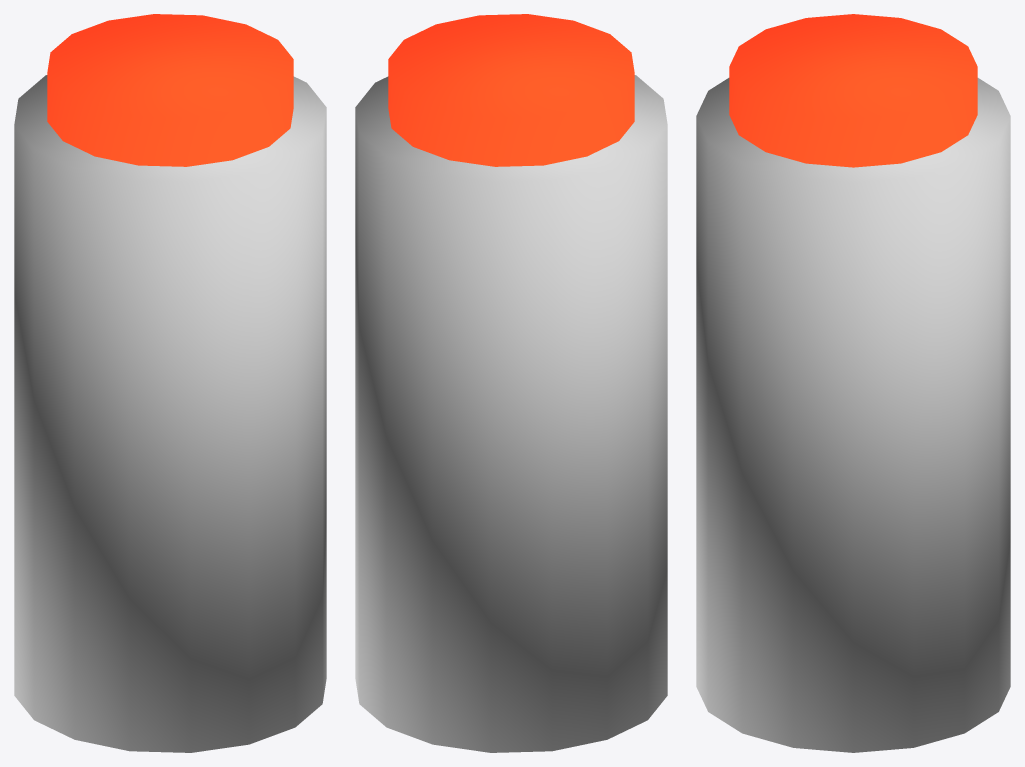
Rendered from TestButton.fbx.
The picture shows the model from 3 angles, left to right: view 1: azimuth 30°, elevation 25°; view 2: azimuth 150°, elevation 25°; view 3: azimuth 270°, elevation 25°; orthographic projection.
Visible parts, largest first — view 1: Button; view 2: Button; view 3: Button.
Boxes of the visible parts, x1=… form: Button: x1=14, y1=14, x2=326, y2=752; Button: x1=355, y1=14, x2=667, y2=752; Button: x1=696, y1=14, x2=1010, y2=752.
Bounding box in the file's own units: 40 × 86.99 × 40.
